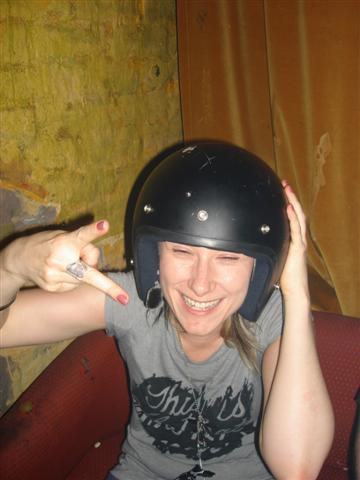helmet: (128, 149, 302, 269)
